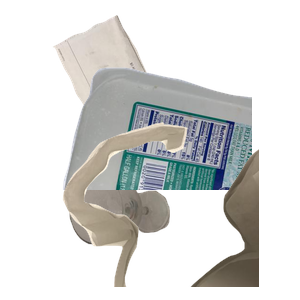glass: (67, 172, 229, 300)
paper: (51, 13, 230, 186)
plastic: (60, 65, 300, 245)
trash: (60, 120, 300, 300)
